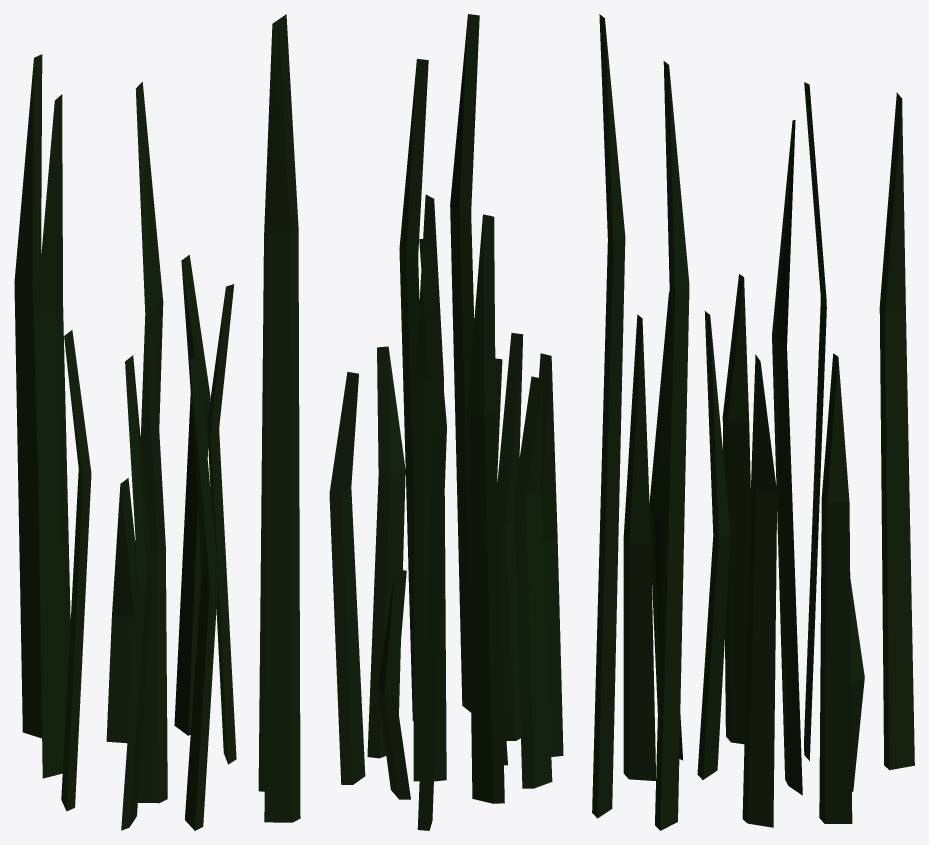
File: Grass_2.glb
3 renders of one model, left to right at view 1: azimuth 30°, elevation 25°; view 2: azimuth 150°, elevation 25°; view 3: azimuth 270°, elevation 25°, orthographic. The views are drawn at different scales.
Parts seen in each view (by area): view 1: Grass_2_Plane.002; view 2: Grass_2_Plane.002; view 3: Grass_2_Plane.002.
Part boxes in pixels (box(x1,y1,x2,y2)): Grass_2_Plane.002: box(14, 14, 300, 830); Grass_2_Plane.002: box(329, 14, 563, 830); Grass_2_Plane.002: box(592, 14, 914, 830).
Size of the model in its own units: 0.3162 by 1.2 by 0.4417.
